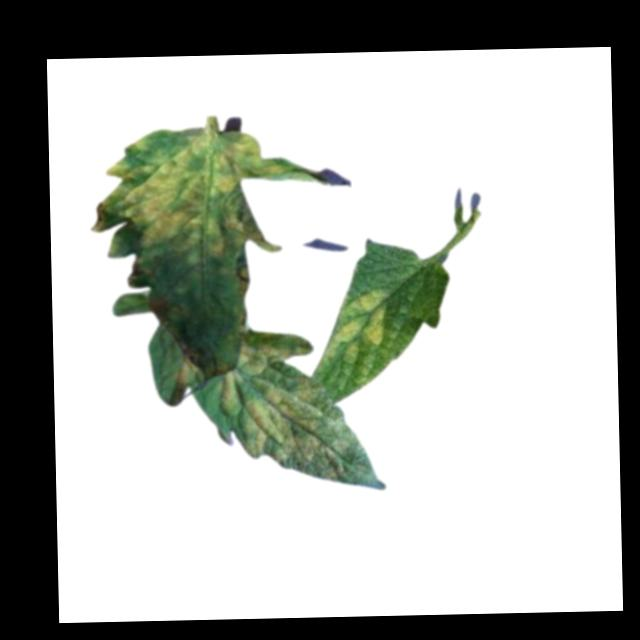Leaf_Mold: (87, 128, 283, 265), (221, 370, 348, 470), (323, 288, 387, 362), (238, 337, 310, 376), (175, 360, 196, 387)
